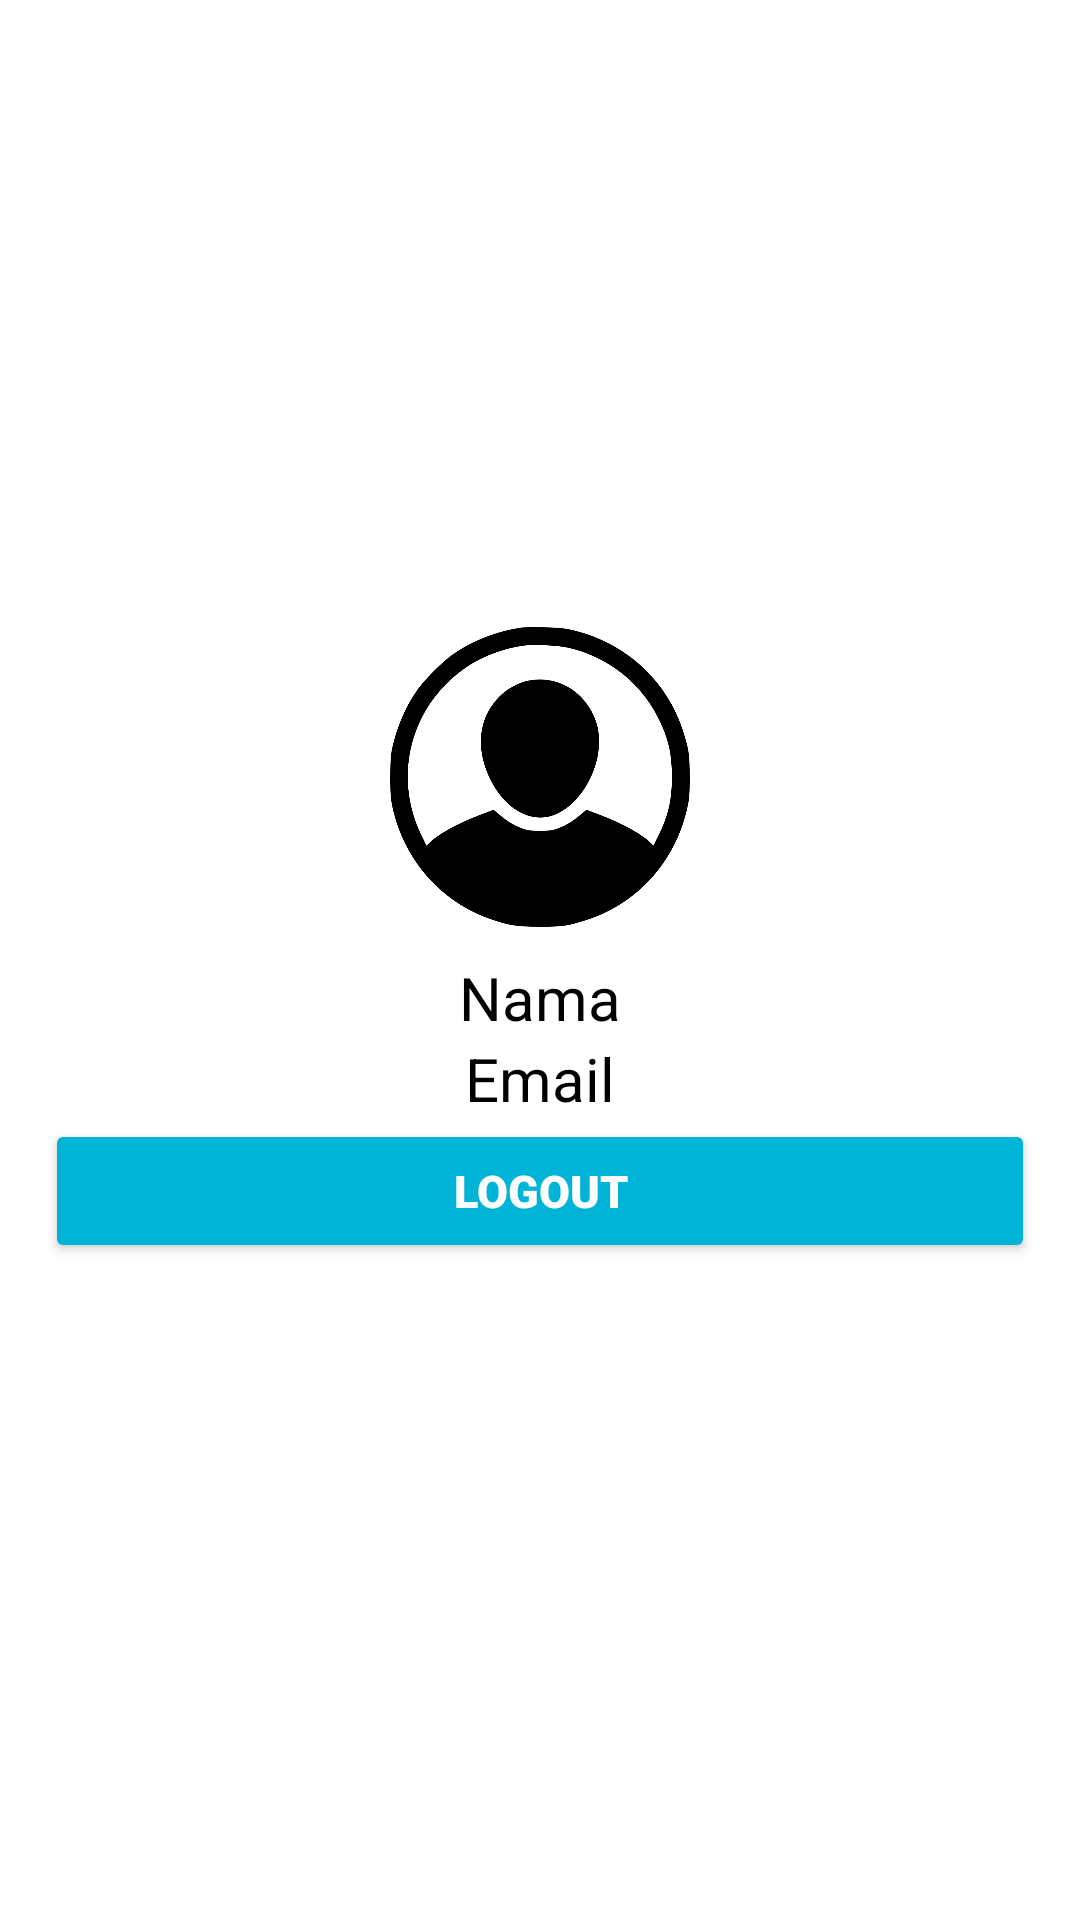

Icon bounding boxes for this 1080w x 1920h phone screenshot, format (x1, y1, x2, y2):
profile: (390, 627, 690, 927)
